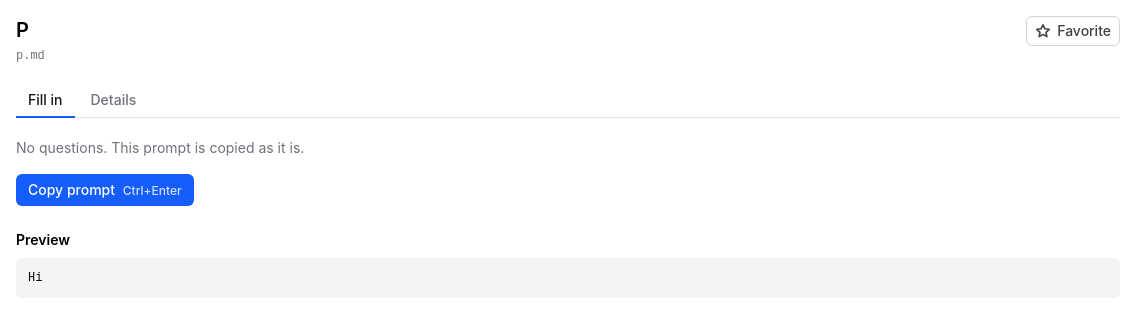
it: DetailPane › says a prompt without questions is copied as it is
Click the tab "Details": click(113, 101) x1=78 y1=84 x2=148 y2=118
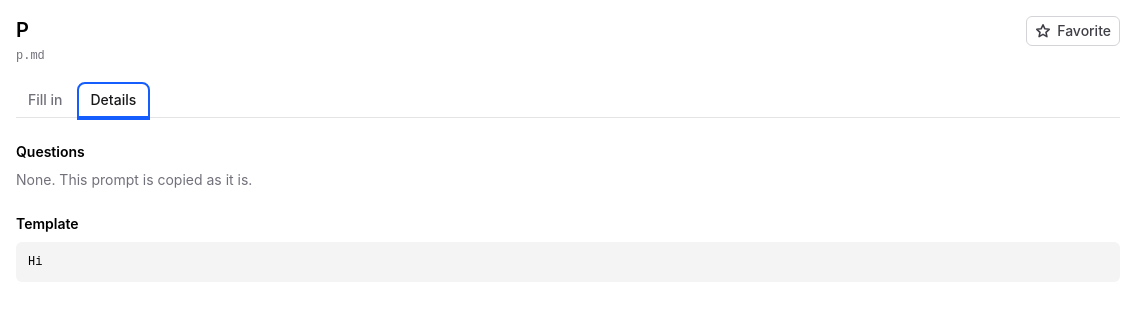
Expected: the text "None. This prompt is copied as it is." is shown, x1=16 y1=171 x2=252 y2=188
